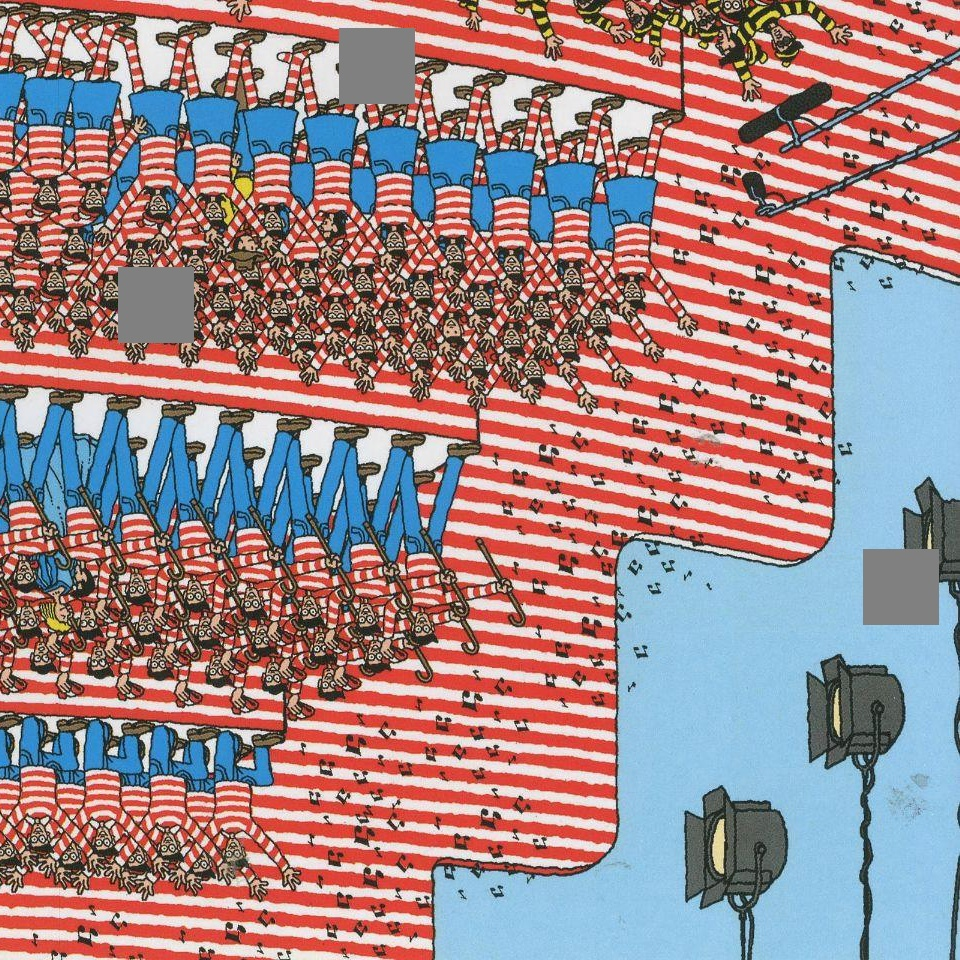waldo: (715, 0, 751, 27), (656, 0, 695, 11), (747, 0, 786, 7)
